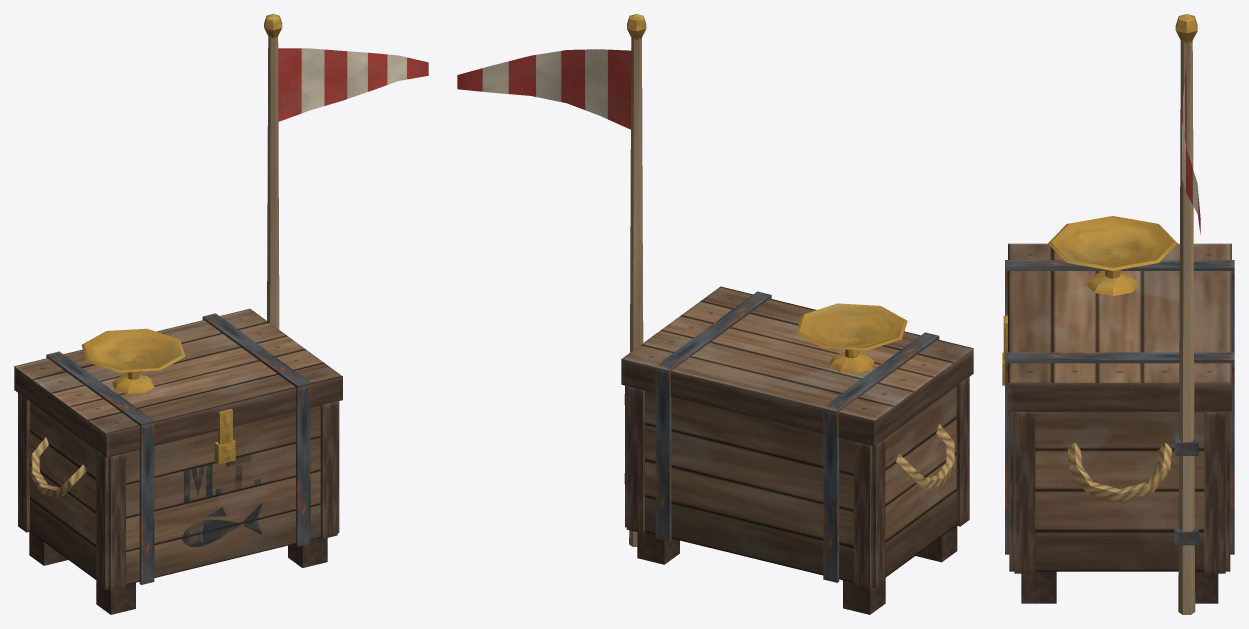
Rendered from packet-box.glb.
3 views of the same model, side by side, from view 1: azimuth 30°, elevation 25°; view 2: azimuth 150°, elevation 25°; view 3: azimuth 270°, elevation 25° (orthographic). The views are drawn at different scales.
Visible parts, largest first — view 1: packet-box, Pennant; view 2: packet-box, Pennant; view 3: packet-box, Pennant.
Part boxes in pixels (box(x1,y1,x2,y2)): packet-box: box(14, 14, 342, 614); Pennant: box(278, 48, 428, 121); packet-box: box(621, 14, 973, 614); Pennant: box(457, 49, 631, 129); packet-box: box(1002, 14, 1234, 614); Pennant: box(1181, 63, 1200, 234).
Size of the model in its own units: 1.67 by 1.87 by 0.66.
1 material, 1 textured.
